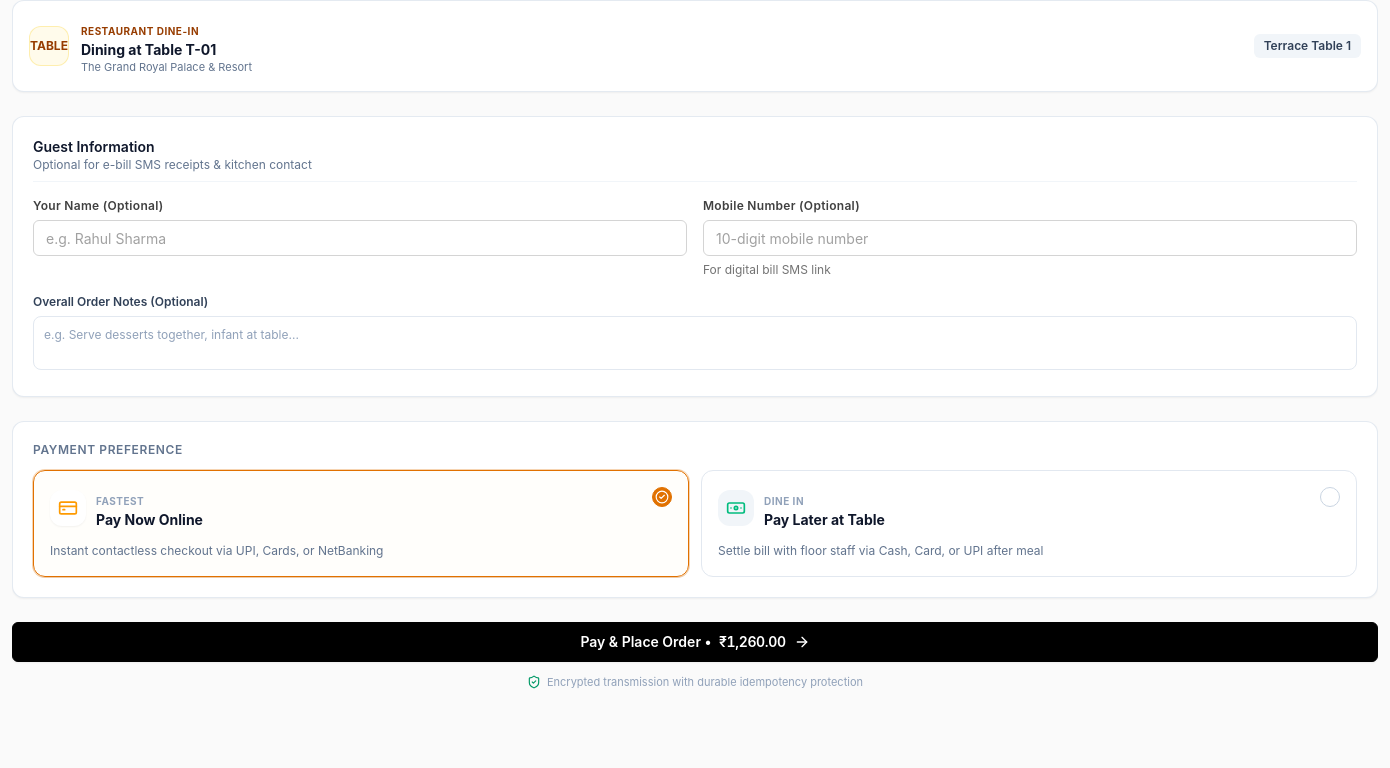
Scenario: SCULPX E-Billing — Phase 3B.4 Frontend Order Integration & Realtime Tests › should handle backend 409 IDEMPOTENCY_IN_PROGRESS safely
The width and height of the screenshot is (1390, 768).
Click the button "Pay & Place Order • ₹1,260.00": click(695, 642) [12,622,1378,662]
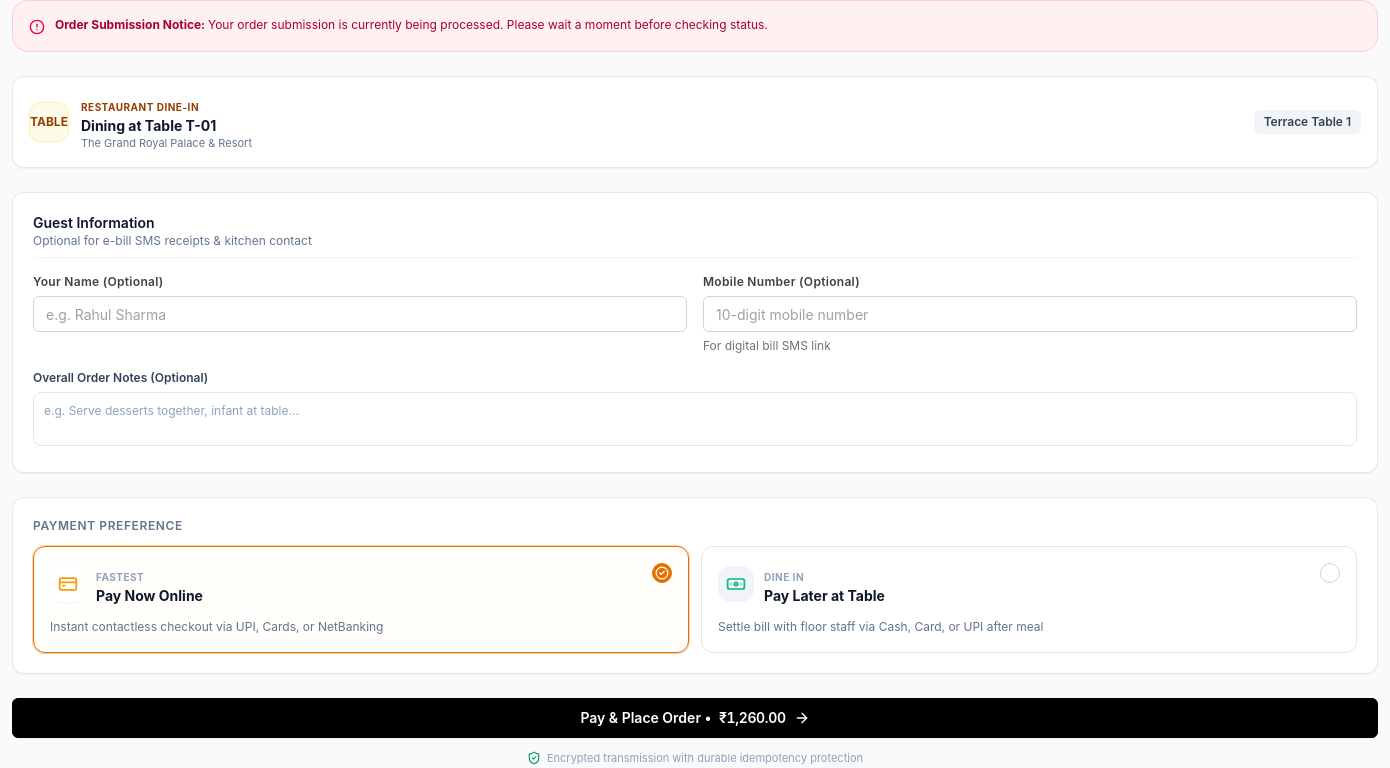
Check: the text "currently being processed" is shown, box [208,17,768,32]
